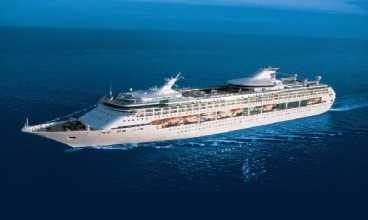youlun: (16, 65, 340, 153)
